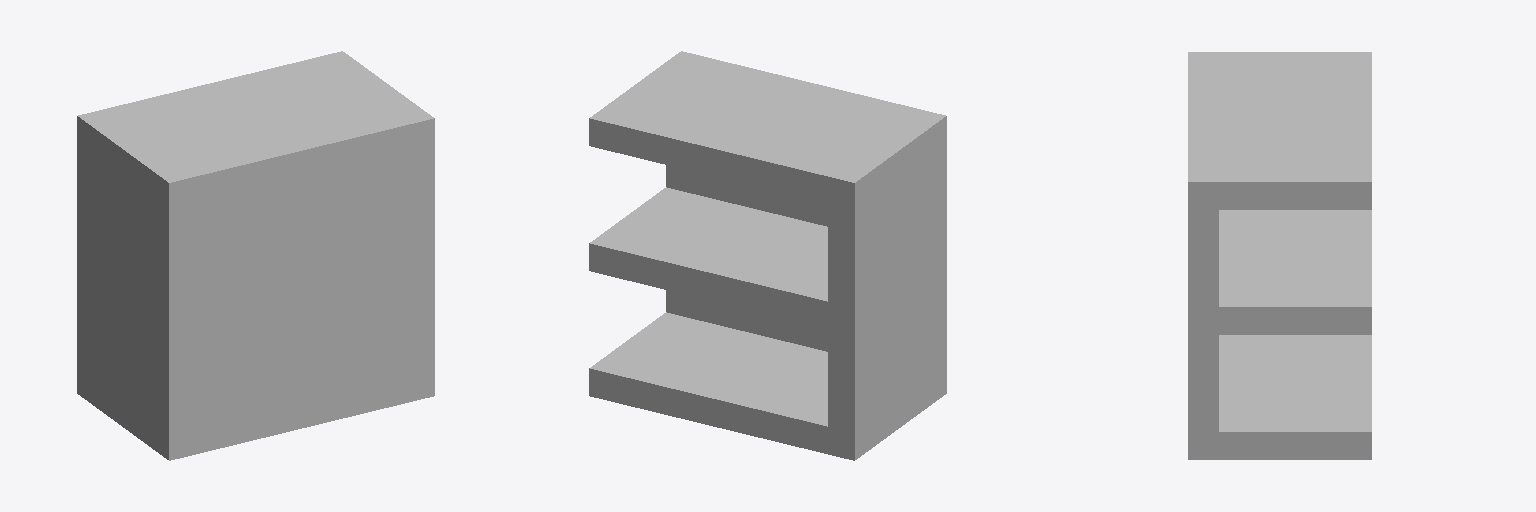
Rendered from pcity_nodes_shelf_1_double_shallow_right.obj.
The picture shows the model from 3 angles: view 1: azimuth 30°, elevation 25°; view 2: azimuth 150°, elevation 25°; view 3: azimuth 270°, elevation 25°; orthographic projection.
Parts seen in each view (by area): view 1: Shelf_Right.003; view 2: Shelf_Right.003; view 3: Shelf_Right.003.
Part boxes in pixels (left/top/right/bottom): Shelf_Right.003: left=77, top=51, right=434, bottom=460; Shelf_Right.003: left=589, top=51, right=946, bottom=460; Shelf_Right.003: left=1188, top=52, right=1371, bottom=459.
Size of the model in its own units: 1 by 1 by 0.6.